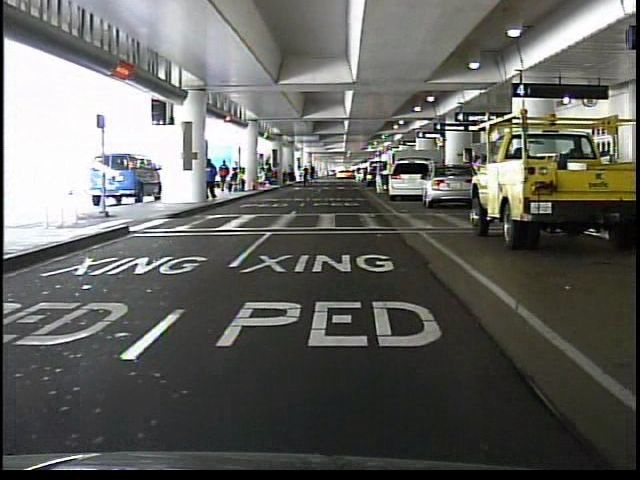person: (203, 155, 221, 204)
